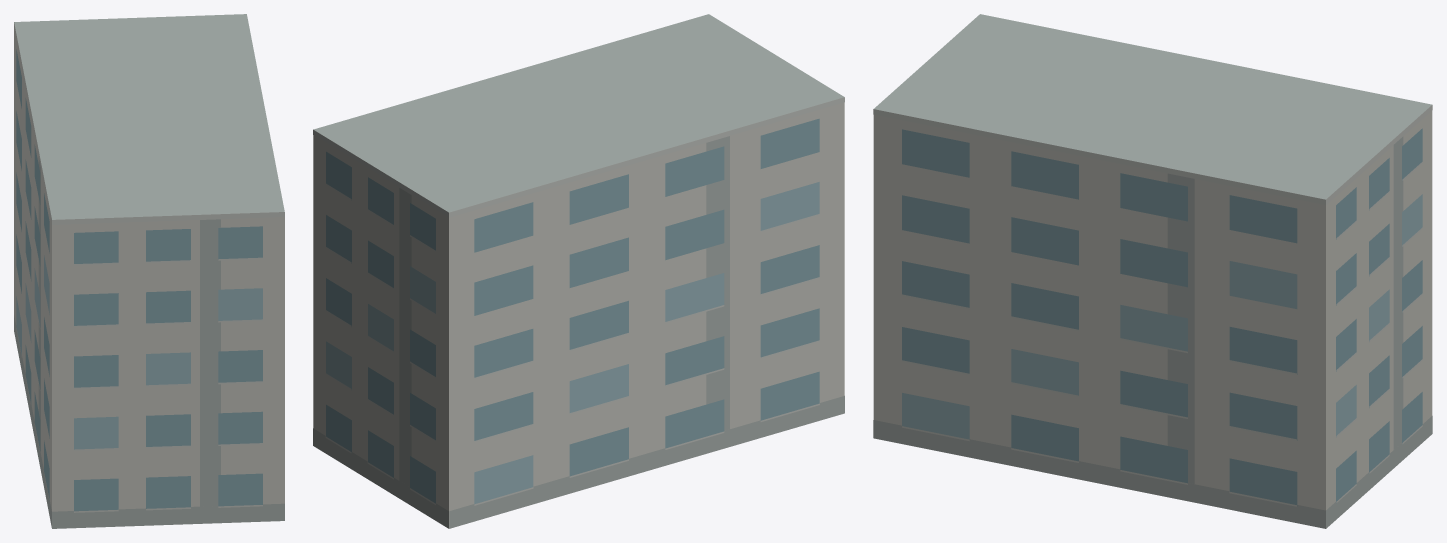
The model's file is residential-b540d21f-ba83-4cb0-ae04-3051d984bc42.glb.
3 renders of one model, left to right at view 1: azimuth 30°, elevation 25°; view 2: azimuth 150°, elevation 25°; view 3: azimuth 270°, elevation 25°, orthographic. The views are drawn at different scales.
Visible parts, largest first — view 1: residential-b540d21f-ba83-4cb0-ae04-3051d984bc42.tmp; view 2: residential-b540d21f-ba83-4cb0-ae04-3051d984bc42.tmp; view 3: residential-b540d21f-ba83-4cb0-ae04-3051d984bc42.tmp.
Boxes of the visible parts, left/top/right/bottom form: residential-b540d21f-ba83-4cb0-ae04-3051d984bc42.tmp: left=14, top=14, right=284, bottom=528; residential-b540d21f-ba83-4cb0-ae04-3051d984bc42.tmp: left=313, top=14, right=844, bottom=528; residential-b540d21f-ba83-4cb0-ae04-3051d984bc42.tmp: left=873, top=14, right=1432, bottom=528.
Bounding box in the file's own units: 17.54 × 14.5 × 22.32.
